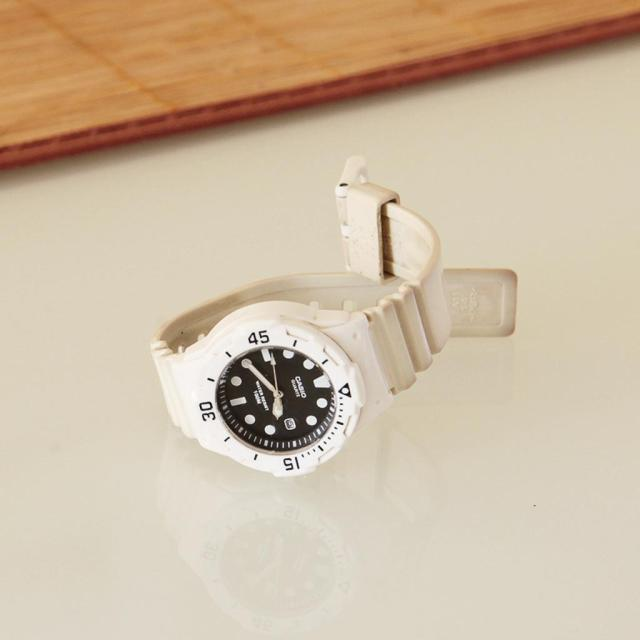Wrist watch: (152, 155, 520, 478)
